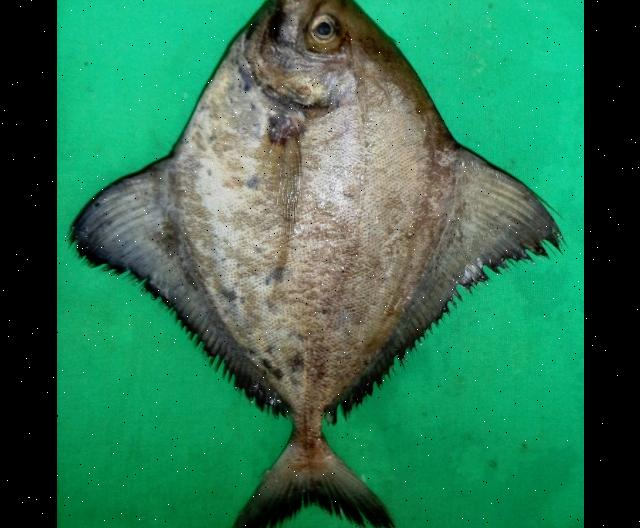Mulut: (256, 0, 341, 15)
Sirip Anal: (186, 294, 300, 425)
Sirip Dada: (244, 87, 322, 309)
Sirip Ekor: (205, 427, 402, 528)
Sirip Perut: (56, 145, 188, 330)
Sirip Punggung: (333, 125, 575, 422)
